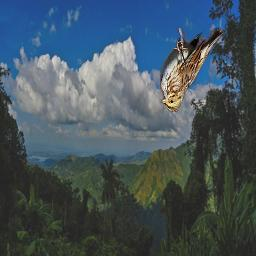Sparrow: (160, 28, 224, 112)
